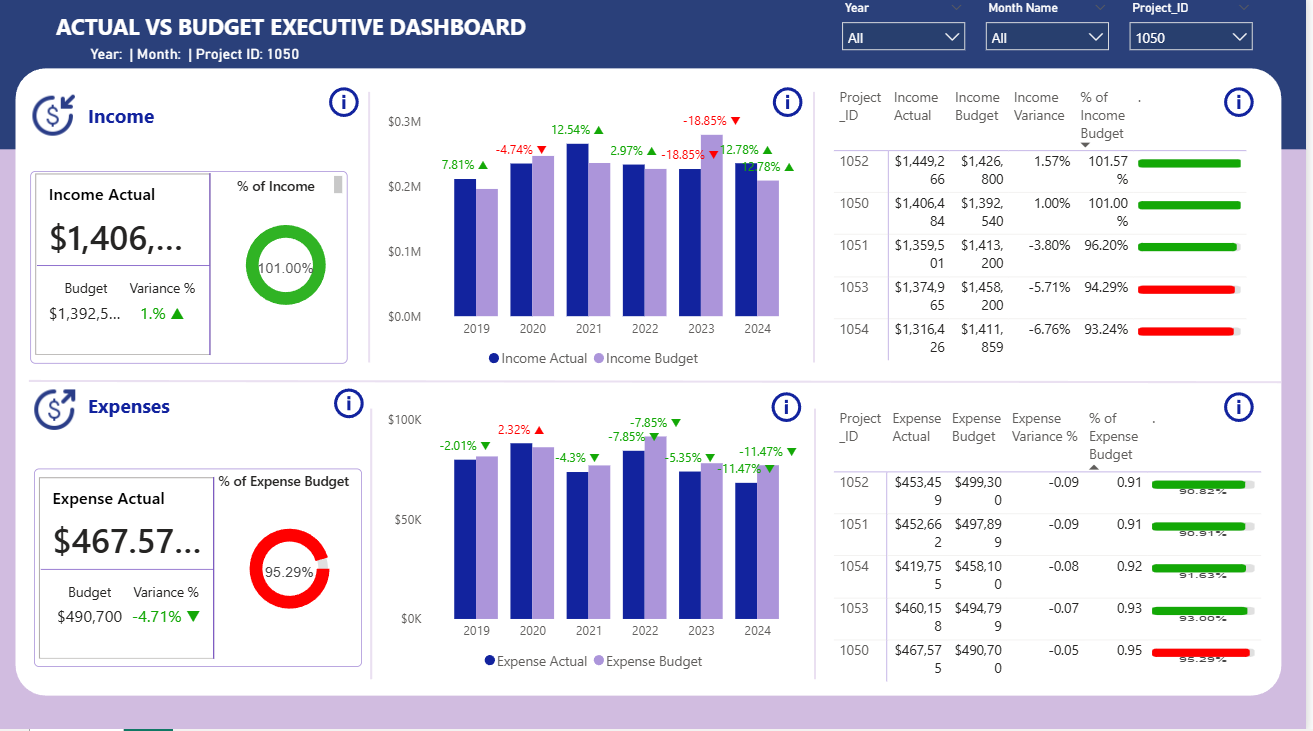

Layout of this report page (visuals, bound fields, positions):
{"tool":"powerbi","page":{"name":"Page 1","canvas":[1280,720],"ordinal":0},"visuals":[{"type":"slicer","fields":{"Values":["Performance Data.Year"]},"box":[817.1,0,140,62.9],"z":0},{"type":"shape","box":[36,170.6,309.5,187.8],"z":0,"group":"g1"},{"type":"shape","box":[38.8,460.4,320.3,193.2],"z":0,"group":"g2"},{"type":"slicer","fields":{"Values":["Performance Data.Month Name"]},"box":[957.1,0,140,62.9],"z":1000},{"type":"slicer","fields":{"Values":["Performance Data.Project_ID"]},"box":[1097.1,0,140,62.9],"z":2000},{"type":"group","id":"g1","title":"Group 1","box":[35.8,168.7,320.9,189.6],"z":3000},{"type":"cardVisual","fields":{"Data":["Key Measures.Income Actual"]},"box":[35.8,168.7,181,187],"z":4000,"group":"g1"},{"type":"group","id":"g2","title":"Group 1","box":[38.8,458.2,322.4,195.5],"z":4000},{"type":"cardVisual","fields":{"Data":["Key Measures.Expense Actual"]},"box":[38.9,464.4,181,187],"z":4000,"group":"g2"},{"type":"clusteredColumnChart","fields":{"Y":["Key Measures.Income Actual","Key Measures.Income Budget"],"Category":["Performance Data.Year"]},"box":[379.1,98.5,414.9,273.1],"z":5000},{"type":"cardVisual","fields":{"Data":["Key Measures.% of Income Budget"]},"box":[217.1,199,139.2,128.4],"z":5000,"group":"g1"},{"type":"cardVisual","fields":{"Data":["Key Measures.% of Expense Budget"]},"box":[220.1,494.7,139.2,128.4],"z":5000,"group":"g2"},{"type":"clusteredColumnChart","fields":{"Y":["Key Measures.Expense Actual","Key Measures.Expense Budget"],"Category":["Performance Data.Year"]},"box":[379.1,392.5,414.9,274.6],"z":6000},{"type":"pivotTable","fields":{"Rows":["Performance Data.Project_ID"],"Values":["Key Measures.Income Actual","Key Measures.Income Budget","Key Measures.Income Variance %","Key Measures.% of Income Budget","Key Measures.Income Bar Chart"]},"box":[814.9,83.6,435.8,277.6],"z":7000},{"type":"textbox","box":[209,170.6,136.5,31.1],"z":7001,"group":"g1"},{"type":"textbox","box":[205,458.2,155.4,39.2],"z":7001,"group":"g2"},{"type":"pivotTable","fields":{"Rows":["Performance Data.Project_ID"],"Values":["Key Measures.Expense Actual","Key Measures.Expense Budget","Key Measures.Expense Variance %","Key Measures.% of Expense Budget","Key Measures.Expense Bar Chart"]},"box":[814.9,397,435.8,277.6],"z":8000},{"type":"textbox","box":[86.6,98.5,113.4,35.8],"z":9000},{"type":"textbox","box":[86.6,382.1,113.4,38.8],"z":10000},{"type":"image","box":[28.4,73.1,58.2,86.6],"z":11000},{"type":"image","box":[0,374.6,117.9,58.2],"z":12000},{"type":"textbox","box":[49.8,10,479.3,38.4],"z":13000},{"type":"card","fields":{"Values":["Key Measures.Dynamic Header"]},"box":[22.8,42.7,345.6,29.9],"z":14000},{"type":"actionButton","box":[322.4,83.6,38.8,38.8],"z":15000},{"type":"actionButton","box":[326.9,377.6,40.3,38.8],"z":16000},{"type":"actionButton","box":[753.7,382.1,40.3,38.8],"z":17000},{"type":"actionButton","box":[1195.5,382.1,41.8,38.8],"z":18000},{"type":"actionButton","box":[755.2,83.6,40.3,38.8],"z":19000},{"type":"actionButton","box":[1195.5,83.6,41.8,38.8],"z":20000}]}

Visuals, with their boxes in screenshot pixels (x1, y1, x2, y2), scaled from the page's 1280x720 canvas onto the 1313x731 screenshot:
slicer - Performance Data.Year: {"left": 838, "top": 0, "right": 982, "bottom": 64}
shape: {"left": 37, "top": 173, "right": 354, "bottom": 364}
shape: {"left": 40, "top": 467, "right": 368, "bottom": 664}
slicer - Performance Data.Month Name: {"left": 982, "top": 0, "right": 1125, "bottom": 64}
slicer - Performance Data.Project_ID: {"left": 1125, "top": 0, "right": 1269, "bottom": 64}
"Group 1" group: {"left": 37, "top": 171, "right": 366, "bottom": 364}
cardVisual - Key Measures.Income Actual: {"left": 37, "top": 171, "right": 222, "bottom": 361}
"Group 1" group: {"left": 40, "top": 465, "right": 371, "bottom": 664}
cardVisual - Key Measures.Expense Actual: {"left": 40, "top": 471, "right": 226, "bottom": 661}
clusteredColumnChart - Key Measures.Income Actual x Key Measures.Income Budget: {"left": 389, "top": 100, "right": 814, "bottom": 377}
cardVisual - Key Measures.% of Income Budget: {"left": 223, "top": 202, "right": 365, "bottom": 332}
cardVisual - Key Measures.% of Expense Budget: {"left": 226, "top": 502, "right": 369, "bottom": 633}
clusteredColumnChart - Key Measures.Expense Actual x Key Measures.Expense Budget: {"left": 389, "top": 398, "right": 814, "bottom": 677}
pivotTable - Performance Data.Project_ID x Key Measures.Income Actual: {"left": 836, "top": 85, "right": 1283, "bottom": 367}
textbox: {"left": 214, "top": 173, "right": 354, "bottom": 205}
textbox: {"left": 210, "top": 465, "right": 370, "bottom": 505}
pivotTable - Performance Data.Project_ID x Key Measures.Expense Actual: {"left": 836, "top": 403, "right": 1283, "bottom": 685}
textbox: {"left": 89, "top": 100, "right": 205, "bottom": 136}
textbox: {"left": 89, "top": 388, "right": 205, "bottom": 427}
image: {"left": 29, "top": 74, "right": 89, "bottom": 162}
image: {"left": 0, "top": 380, "right": 121, "bottom": 439}
textbox: {"left": 51, "top": 10, "right": 543, "bottom": 49}
card - Key Measures.Dynamic Header: {"left": 23, "top": 43, "right": 378, "bottom": 74}
actionButton: {"left": 331, "top": 85, "right": 371, "bottom": 124}
actionButton: {"left": 335, "top": 383, "right": 377, "bottom": 423}
actionButton: {"left": 773, "top": 388, "right": 814, "bottom": 427}
actionButton: {"left": 1226, "top": 388, "right": 1269, "bottom": 427}
actionButton: {"left": 775, "top": 85, "right": 816, "bottom": 124}
actionButton: {"left": 1226, "top": 85, "right": 1269, "bottom": 124}
